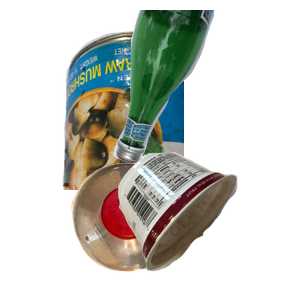glass: (109, 10, 300, 167)
metal: (60, 28, 300, 208)
plastic: (69, 161, 245, 300)
trash: (116, 149, 300, 300)
